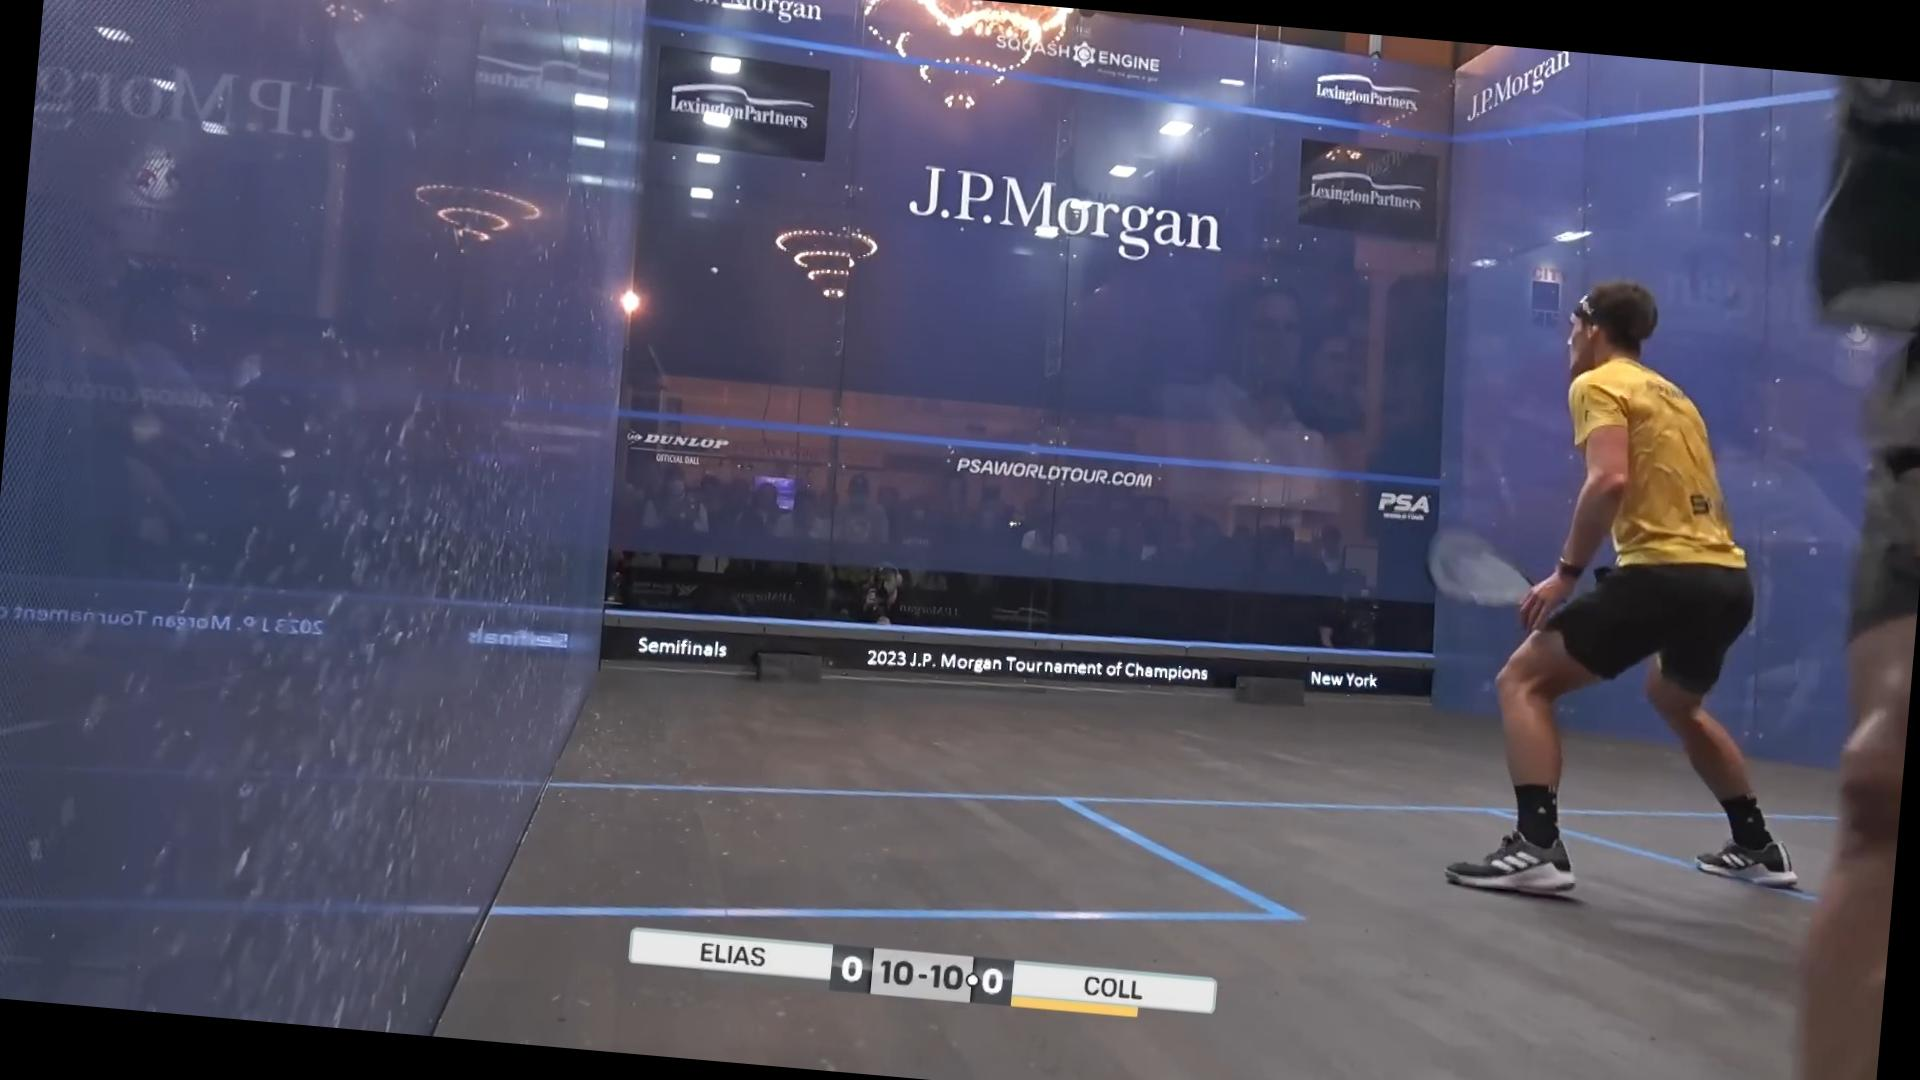Racket: (1411, 512, 1559, 612)
